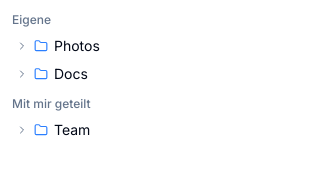
Test: <FileTree> › expandiert mount via sharedMounts.files und zeigt unterordner
The image size is (320, 185).
Click the button named "Team erweitern": [22, 130] box [14,122,30,138]
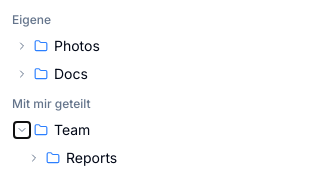
Now the text "Reports" is shown, box [66,148,117,168]
